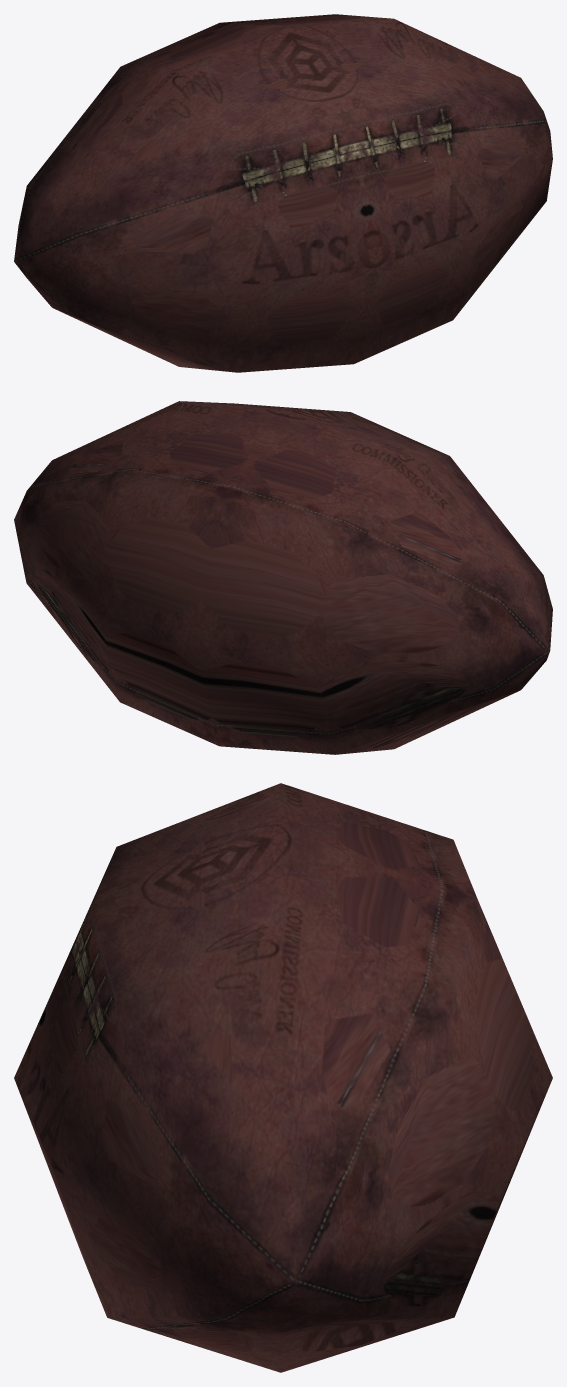
Rendered from american_football.fbx.
The picture shows the model from 3 angles, top to bottom: view 1: azimuth 30°, elevation 25°; view 2: azimuth 150°, elevation 25°; view 3: azimuth 270°, elevation 25°; orthographic projection. The views are drawn at different scales.
Parts seen in each view (by area): view 1: Low_american_football; view 2: Low_american_football; view 3: Low_american_football.
Boxes of the visible parts, x1,y1,x2,y2 form: Low_american_football: (14, 14, 552, 372); Low_american_football: (14, 401, 552, 754); Low_american_football: (14, 783, 552, 1372).
Bounding box in the file's own units: 48.25 × 28.26 × 28.53.
